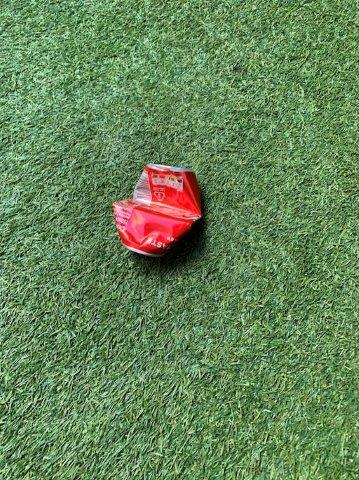kaleng: (114, 165, 201, 255)
